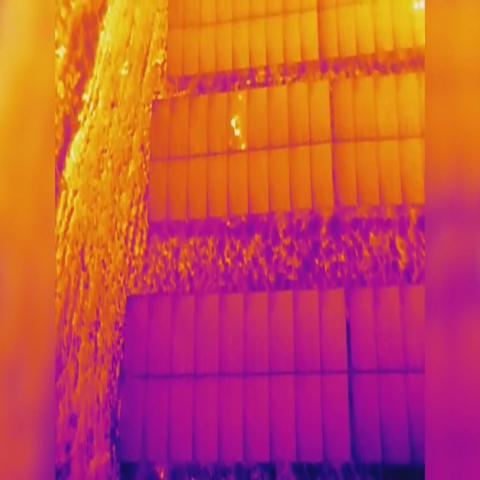fault: (227, 117, 236, 128), (233, 128, 241, 138), (239, 142, 246, 152)
